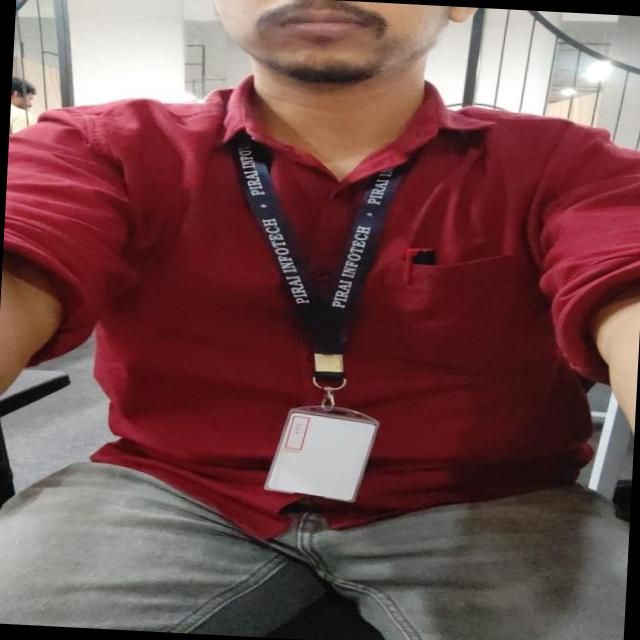id_card: (222, 134, 420, 505)
